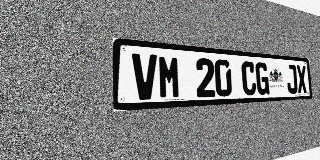0: (214, 59, 232, 97)
2: (196, 58, 215, 98)
C: (241, 61, 256, 96)
G: (255, 62, 269, 95)
J: (286, 64, 298, 94)
M: (158, 55, 181, 99)
V: (132, 53, 158, 100)
X: (296, 65, 307, 93)
